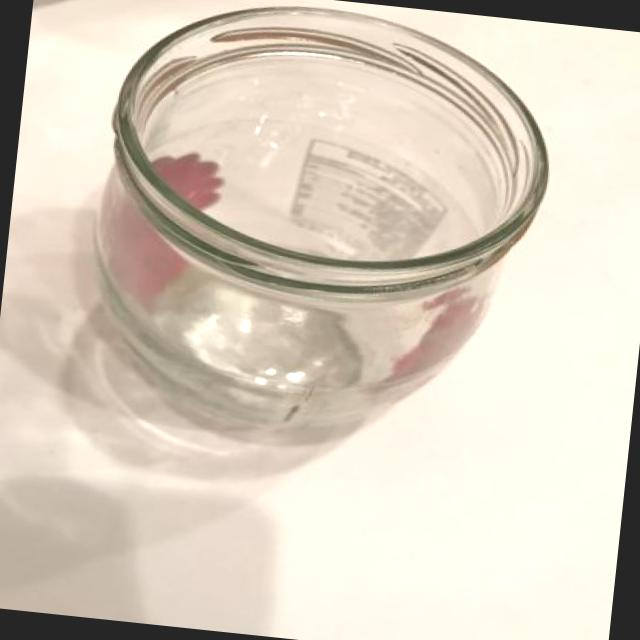bottle: (98, 8, 546, 428)
